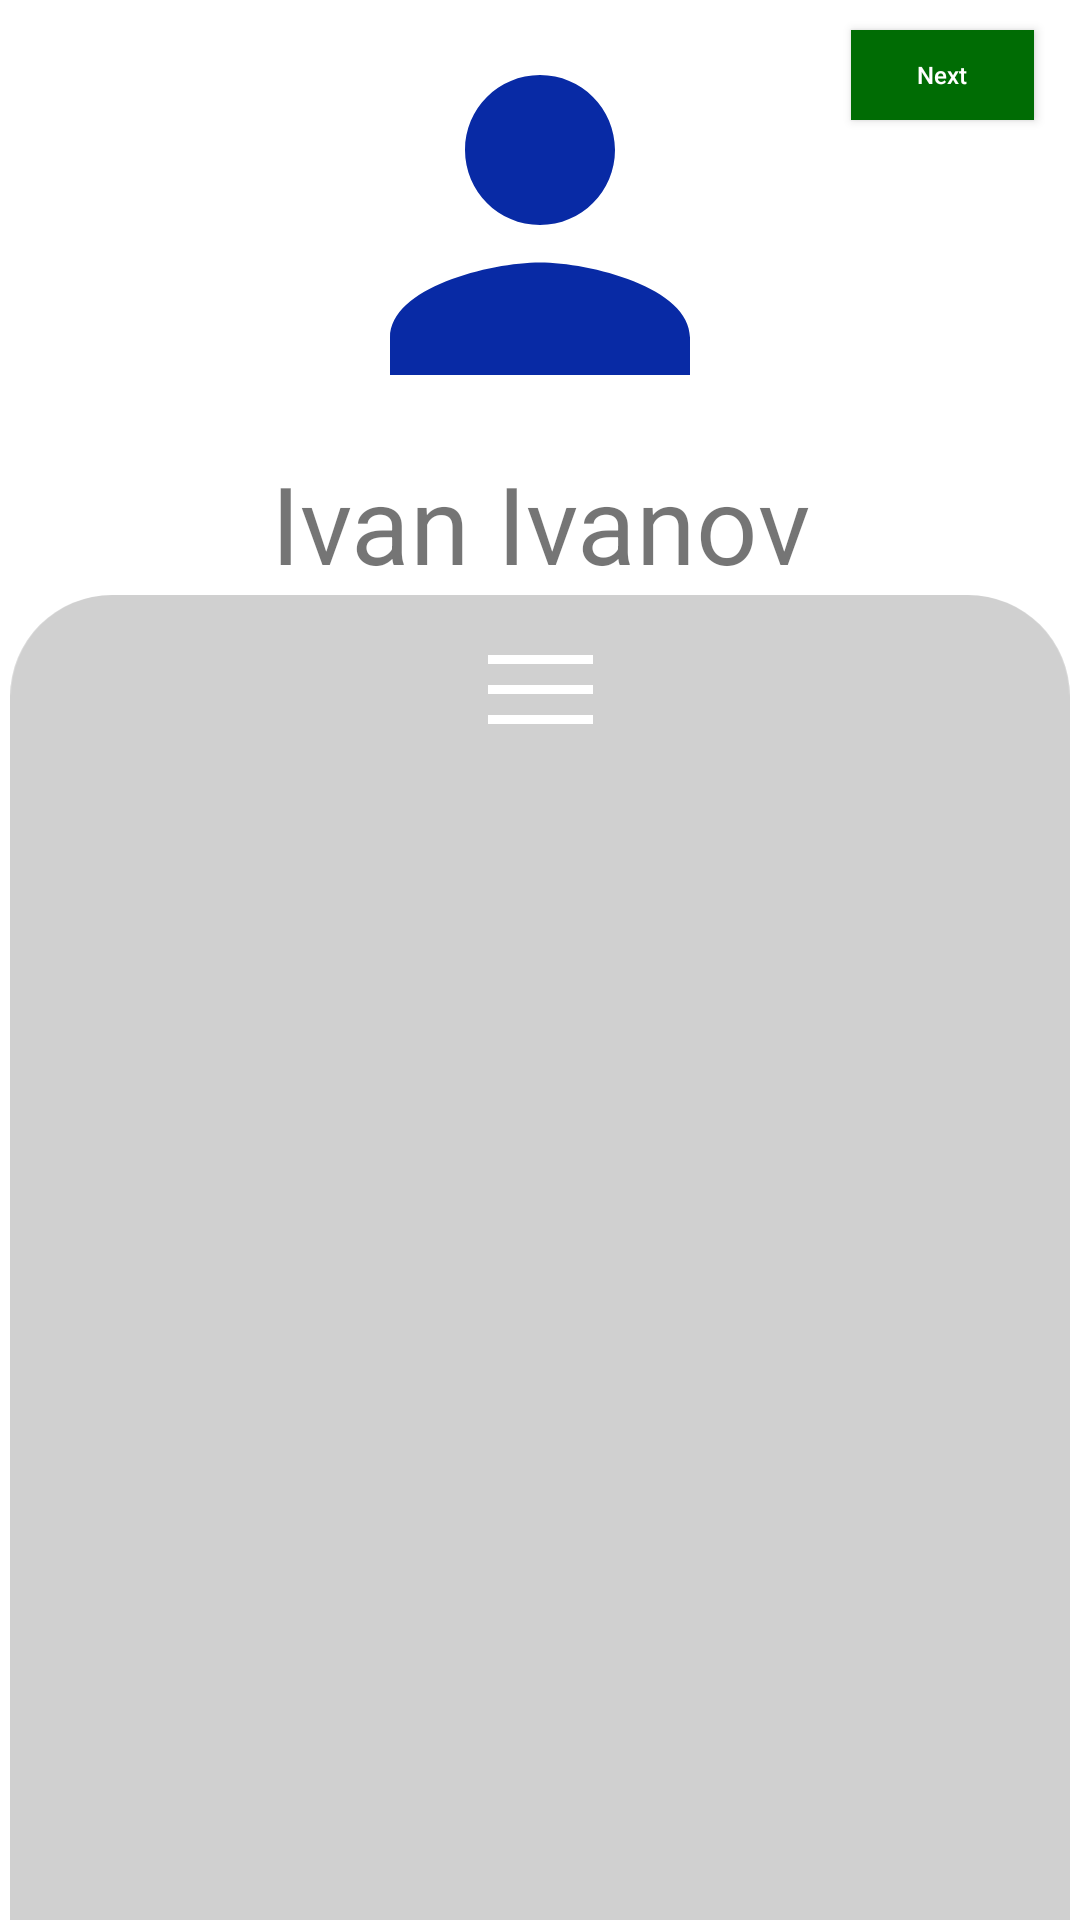

Screen size 1080*1920. Icon name, then its box in pixels as (x1, y1, x2, y2):
person: (390, 75, 690, 375)
